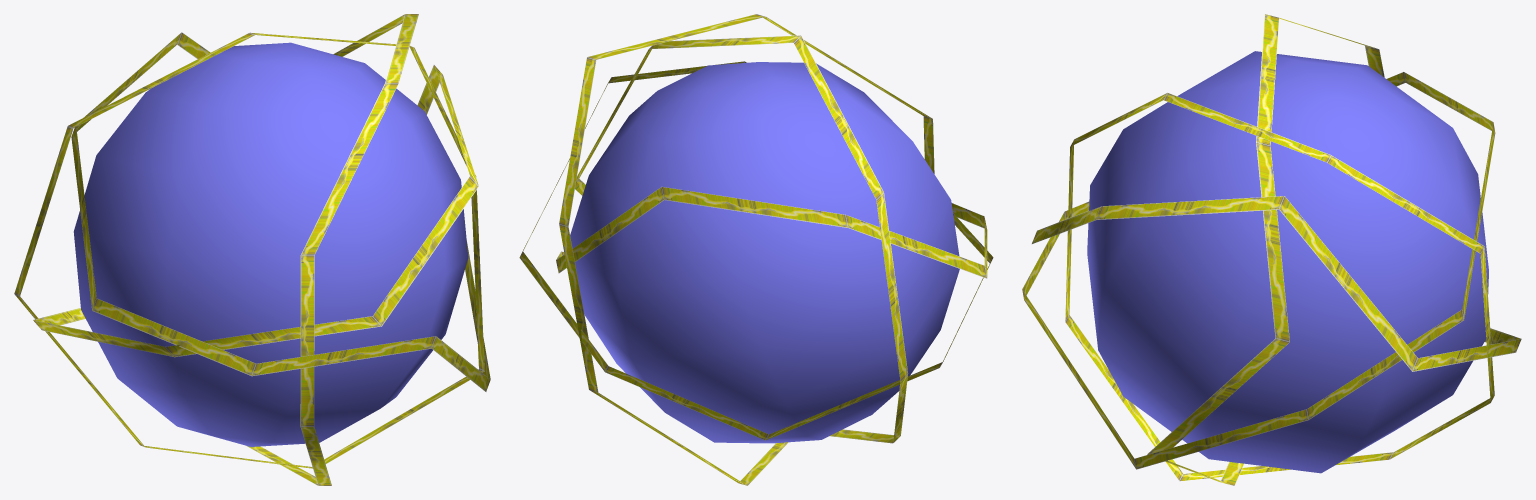
Rendered from Env_PowerUp_Uber_Fuz.fbx.
The picture shows the model from 3 angles, left to right: view 1: azimuth 30°, elevation 25°; view 2: azimuth 150°, elevation 25°; view 3: azimuth 270°, elevation 25°; orthographic projection. The views are drawn at different scales.
Parts seen in each view (by area): view 1: Power_Up_Icon_Uber_Fuz; view 2: Power_Up_Icon_Uber_Fuz; view 3: Power_Up_Icon_Uber_Fuz.
Boxes of the visible parts, box(x1,y1,x2,y2) form: Power_Up_Icon_Uber_Fuz: box(14, 14, 490, 485); Power_Up_Icon_Uber_Fuz: box(519, 14, 993, 485); Power_Up_Icon_Uber_Fuz: box(1022, 14, 1521, 485).
Size of the model in its own units: 2.71 by 2.69 by 2.71.
Materials: 1 (1 with a texture image).
